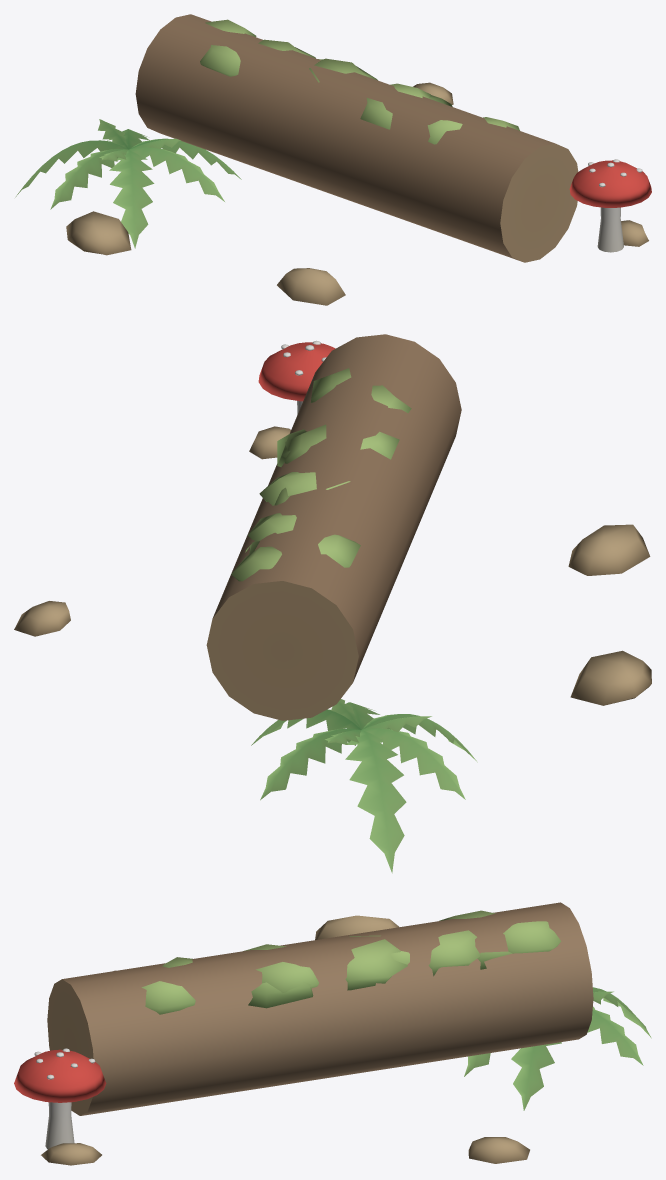
Rendered from forest_log.glb.
The picture shows the model from 3 angles, top to bottom: view 1: azimuth 30°, elevation 25°; view 2: azimuth 150°, elevation 25°; view 3: azimuth 270°, elevation 25°; orthographic projection. The views are drawn at different scales.
Visible parts, largest first — view 1: body; view 2: body; view 3: body.
Boxes of the visible parts, x1=… form: body: x1=15, y1=14, x2=651, y2=305; body: x1=14, y1=334, x2=651, y2=873; body: x1=14, y1=902, x2=651, y2=1165.
Bounding box in the file's own units: 0.4929 × 0.1898 × 0.5528.
